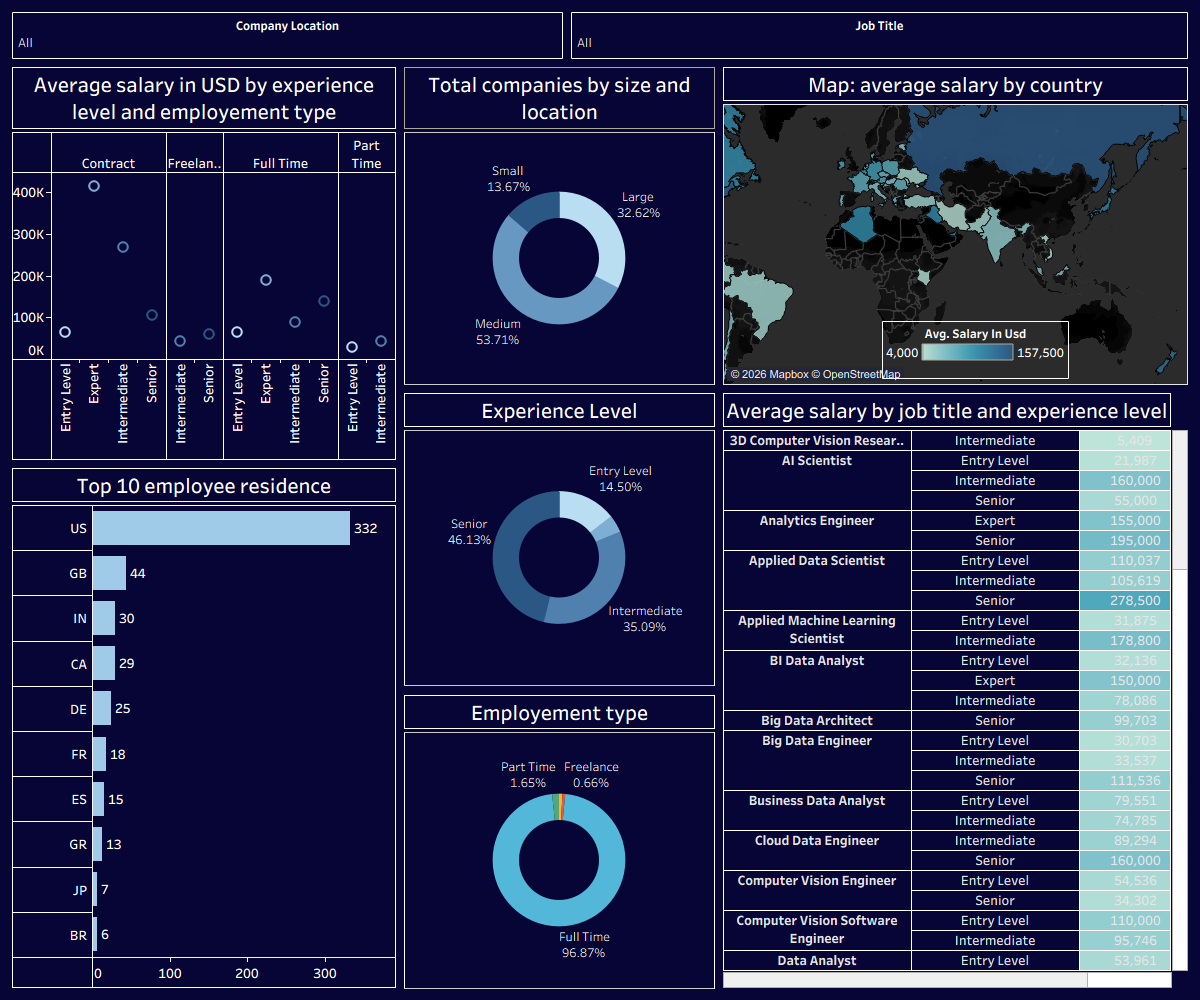

Layout of this report page (visuals, bound fields, positions):
{"tool":"tableau","page":{"name":"Dashboard 1","canvas":[1200,1000],"ordinal":0},"visuals":[{"type":"filter","title":"Total companies by size and location","param":"[federated.180958h03jbupl166tequ179g37n].[none:company_location:nk]","box":[8,8,559,55]},{"type":"filter","title":"Map: average salary by country","param":"[federated.180958h03jbupl166tequ179g37n].[none:job_title:nk]","box":[567,8,625,55]},{"type":"worksheet","title":"Average salary in USD by experience level and employement type","mark":"Shape","rows":["salary_in_usd"],"cols":["employment_type","experience_level"],"box":[8,63,392,401]},{"type":"worksheet","title":"Total companies by size and location","mark":"Pie","rows":["Calculation_0384849602838529","Calculation_0384849602838529"],"box":[400,63,319,326.4]},{"type":"worksheet","title":"Map: average salary by country","mark":"Automatic","box":[719,63,473,326]},{"type":"legend","title":"Map: average salary by country","param":"[federated.180958h03jbupl166tequ179g37n].[avg:salary_in_usd:qk]","box":[882,321,187,63]},{"type":"worksheet","title":"Average salary by job title and experience level","mark":"Square","rows":["job_title","experience_level"],"box":[719,389,473,603]},{"type":"worksheet","title":"Experience Level","mark":"Pie","rows":["Calculation_0384849602838529","Calculation_0384849602838529"],"box":[400,389.4,319,301.2]},{"type":"worksheet","title":"Top 10 employee residence","mark":"Automatic","rows":["employee_residence"],"cols":["employee_residence"],"box":[8,464,392,528]},{"type":"worksheet","title":"Employement type","mark":"Pie","rows":["Calculation_0384849602838529","Calculation_0384849602838529"],"box":[400,690.5,319,301.5]}]}

Visuals, with their boxes in screenshot pixels (x1, y1, x2, y2), scaled from the page's 1200x1000 canvas onto the 1200x1000 screenshot:
"Total companies by size and location" filter: [left=8, top=8, right=567, bottom=63]
"Map: average salary by country" filter: [left=567, top=8, right=1192, bottom=63]
"Average salary in USD by experience level and employement type" worksheet (Shape marks): [left=8, top=63, right=400, bottom=464]
"Total companies by size and location" worksheet (Pie marks): [left=400, top=63, right=719, bottom=389]
"Map: average salary by country" worksheet: [left=719, top=63, right=1192, bottom=389]
"Map: average salary by country" legend: [left=882, top=321, right=1069, bottom=384]
"Average salary by job title and experience level" worksheet (Square marks): [left=719, top=389, right=1192, bottom=992]
"Experience Level" worksheet (Pie marks): [left=400, top=389, right=719, bottom=691]
"Top 10 employee residence" worksheet: [left=8, top=464, right=400, bottom=992]
"Employement type" worksheet (Pie marks): [left=400, top=690, right=719, bottom=992]
